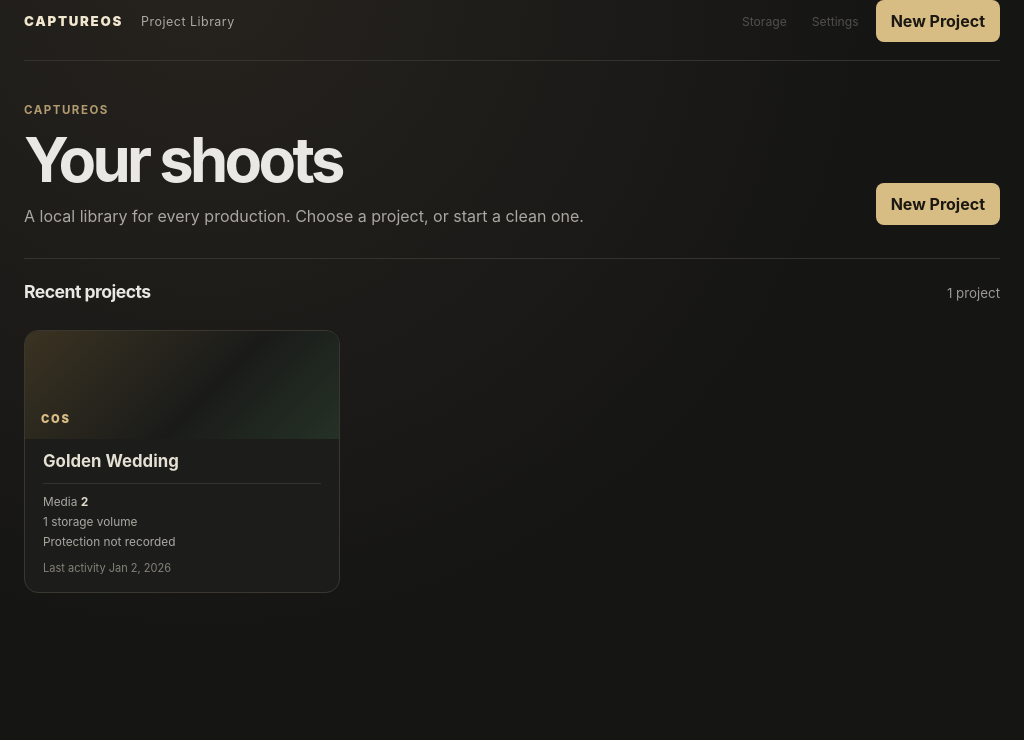
it: CaptureOS application shell and local media engine › paginates Find Similar with its original local asset instead of issuing a text search
Click the button with aria-label "Open Golden Wedding" at [182, 385], box top-left (24, 330), bottom-right (340, 593)
(page scrolled)
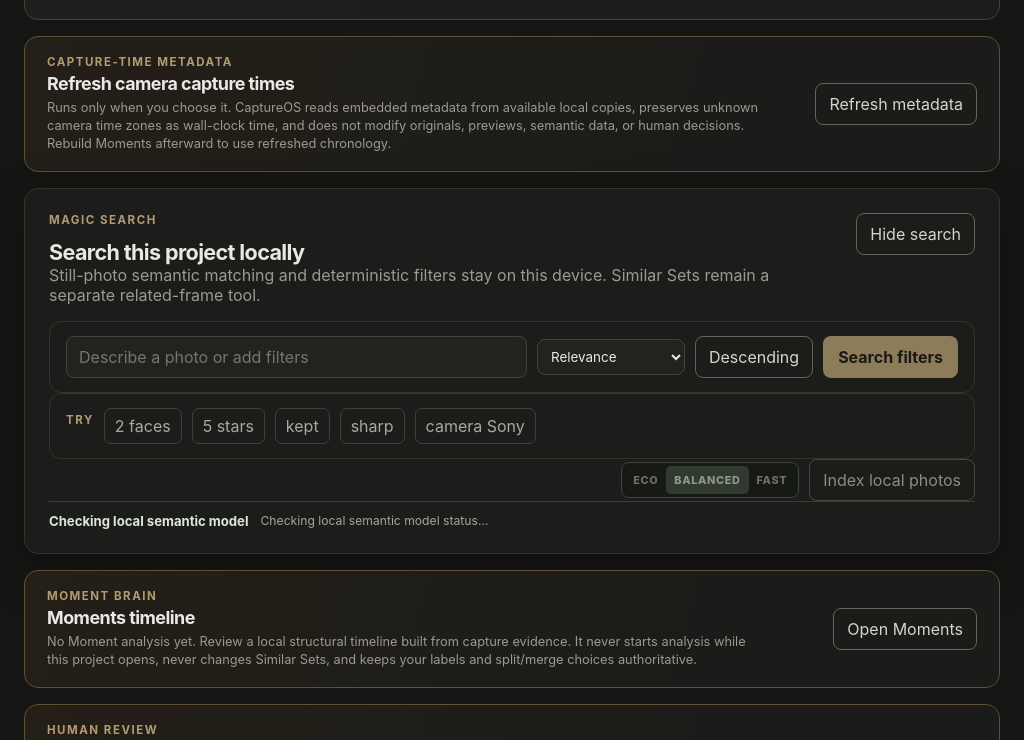
Type "local scene" into the field named "Magic Search this project" at [296, 357], box top-left (66, 336), bottom-right (527, 378)
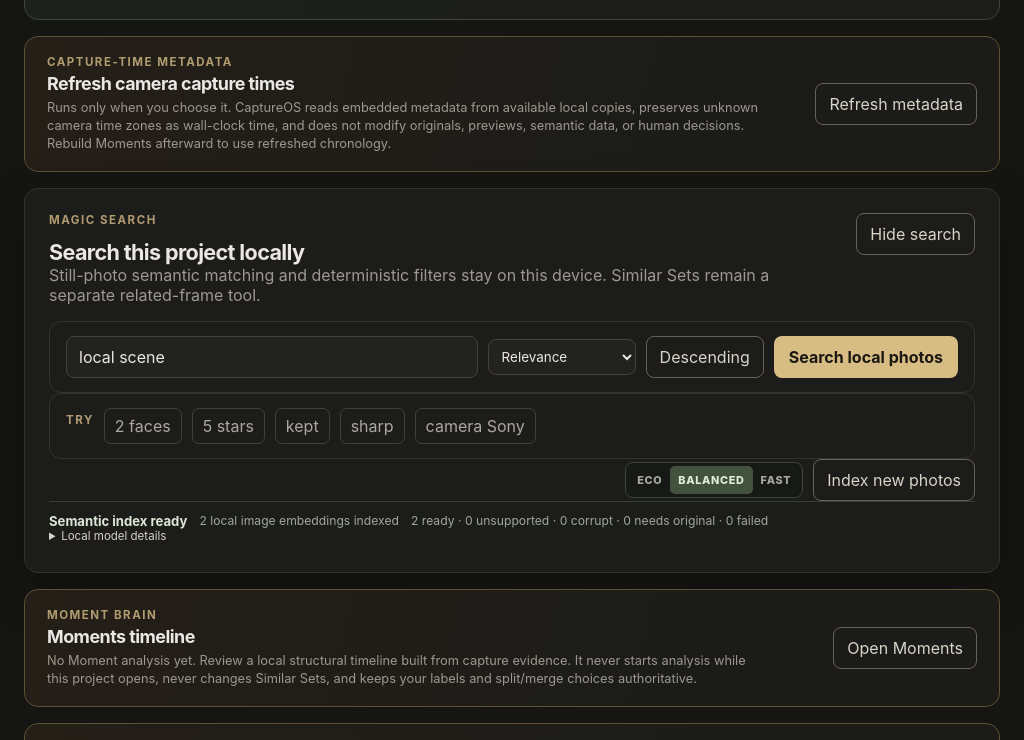
Click the button "Search local photos" at [866, 357], box top-left (774, 336), bottom-right (958, 378)
(page scrolled)
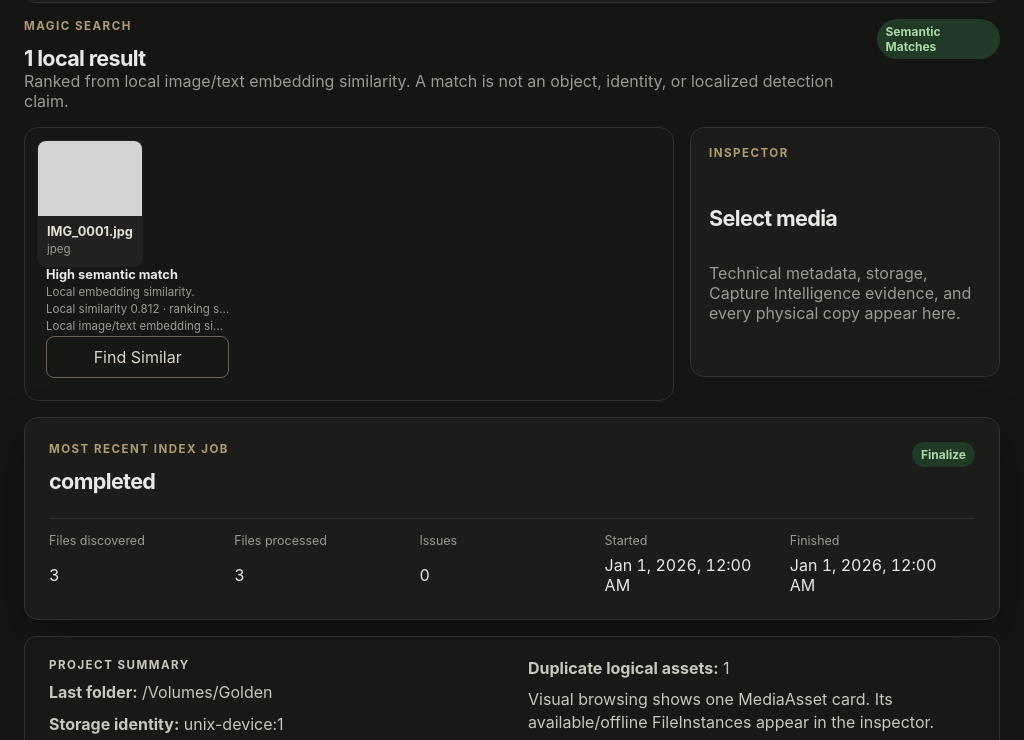
Now the button "Find Similar" is shown
Click the button "Find Similar" at [138, 357], box top-left (46, 336), bottom-right (229, 378)
(page scrolled)
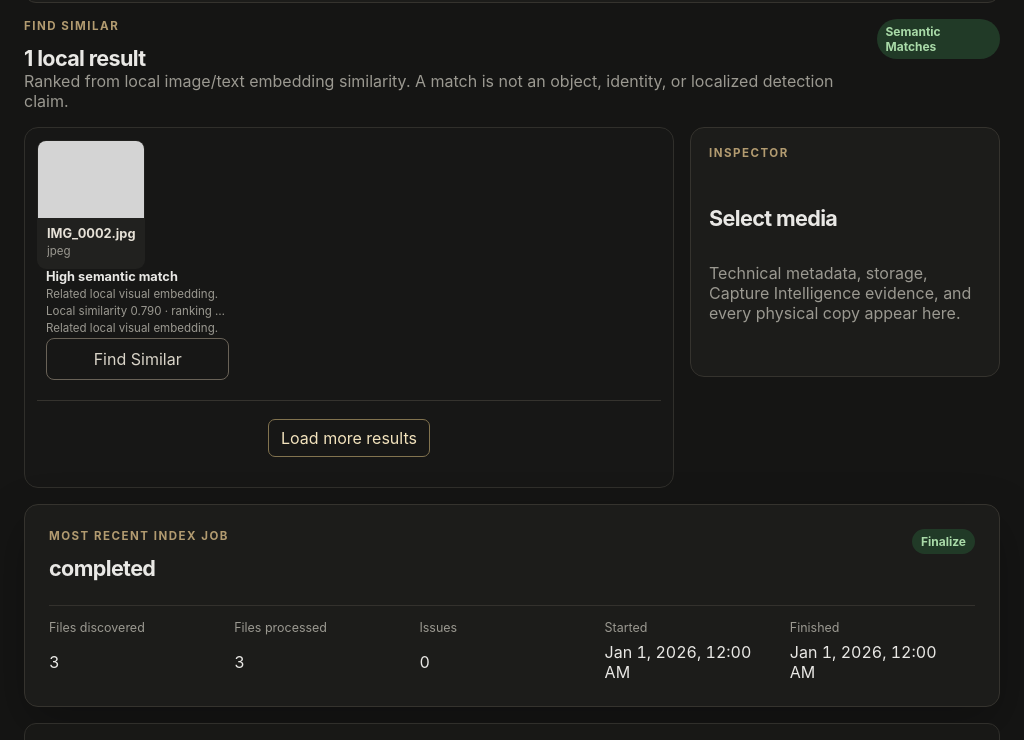
Click the button "Load more results" at [349, 438], box top-left (268, 419), bottom-right (430, 457)
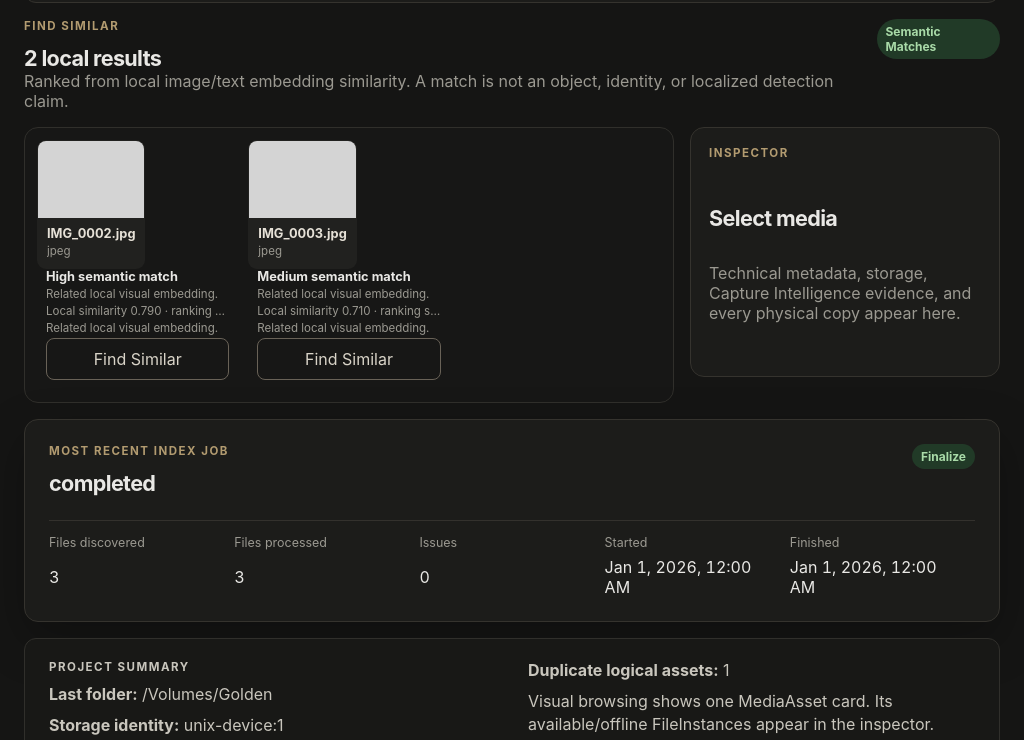
Now the text "IMG_0003.jpg" is shown, box top-left (258, 226), bottom-right (347, 240)
